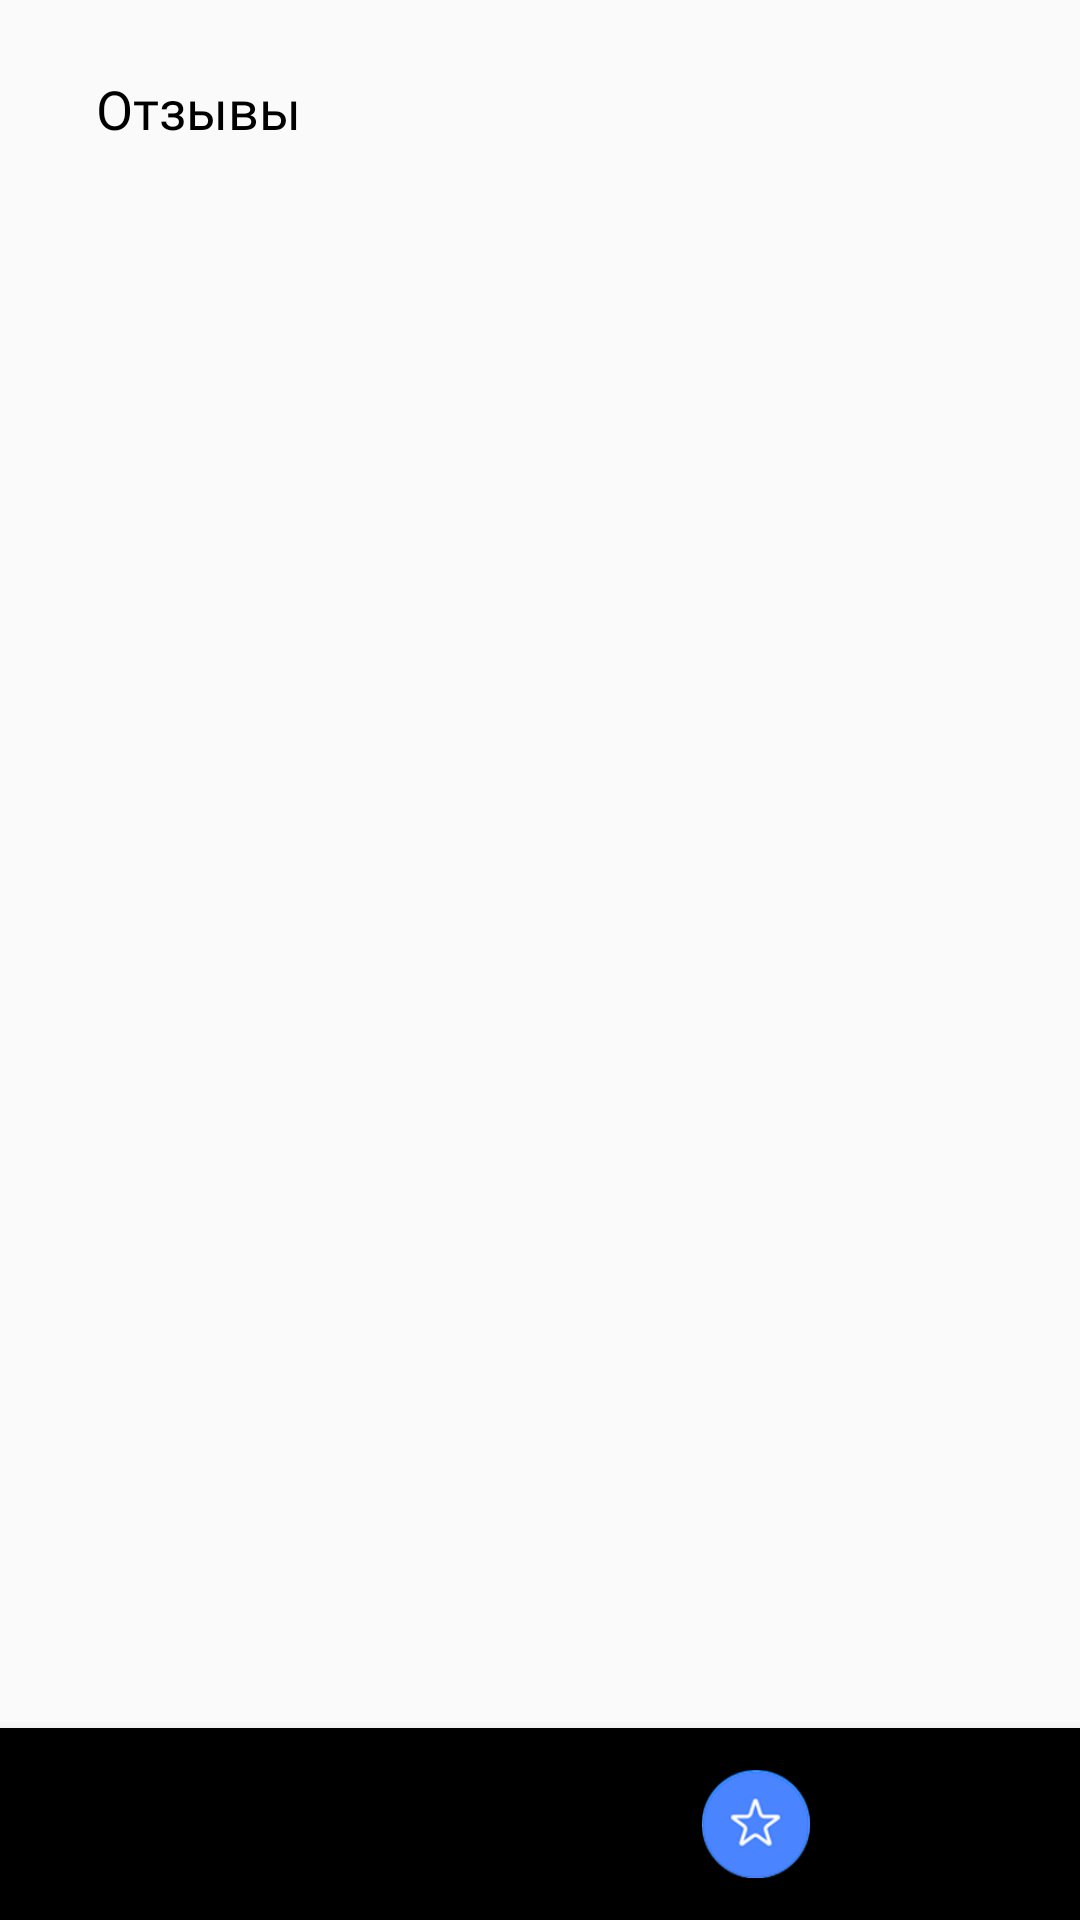

Screen size 1080×1920. Icon name, then its box in pixels as bbox=[x1, y1, x2, y2]:
Отзывы: bbox=[702, 1770, 810, 1878]
